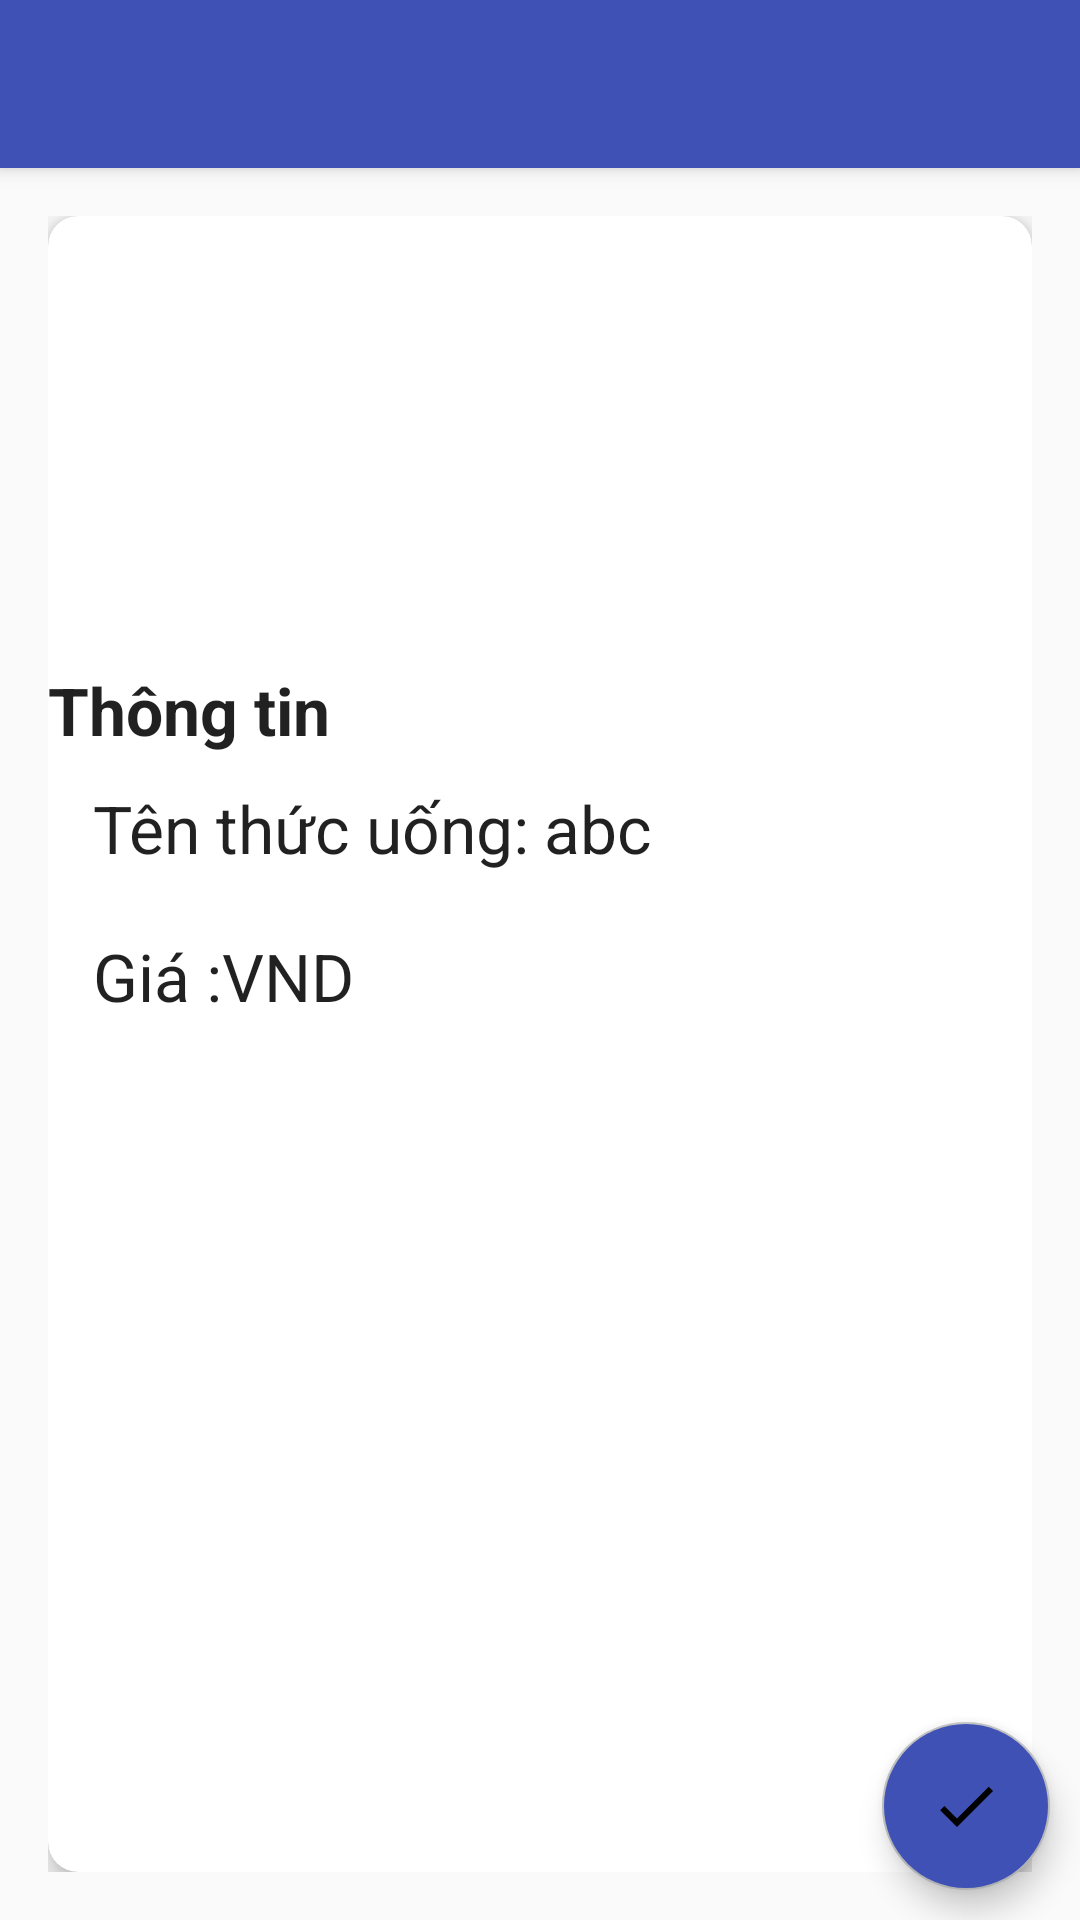

Screen size 1080 × 1920. Icon name, then its center in pixels as [x,y]:
done: [966,1806]
